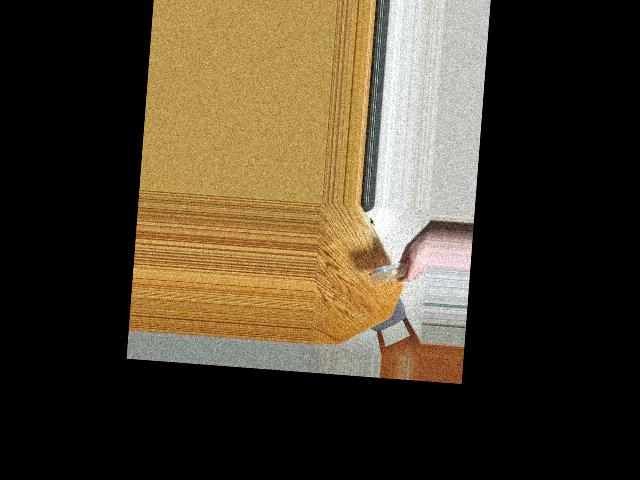cheese: (374, 258, 408, 289)
